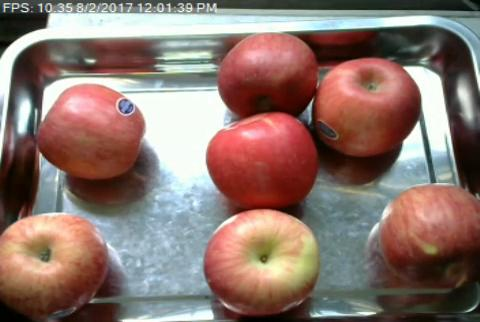apple: (205, 210, 320, 316), (0, 212, 108, 318), (207, 113, 319, 208), (380, 184, 480, 289), (313, 59, 422, 154), (38, 84, 145, 180), (220, 35, 316, 117)
